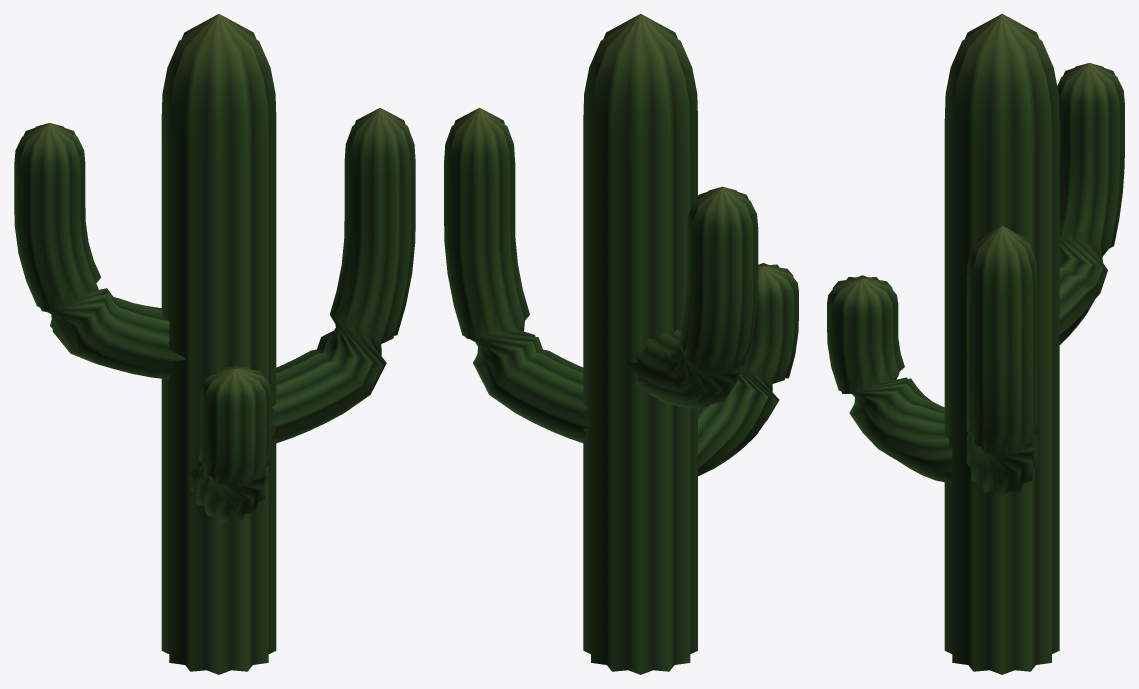
The model's file is cactus_a.glb.
3 views of the same model, side by side, from view 1: azimuth 30°, elevation 25°; view 2: azimuth 150°, elevation 25°; view 3: azimuth 270°, elevation 25° (orthographic).
Parts seen in each view (by area): view 1: cactus; view 2: cactus; view 3: cactus.
Boxes of the visible parts, bbox=[...] form: cactus: bbox=[14, 14, 415, 674]; cactus: bbox=[444, 14, 798, 674]; cactus: bbox=[827, 14, 1124, 674].
Size of the model in its own units: 0.5729 by 1 by 0.4244.
